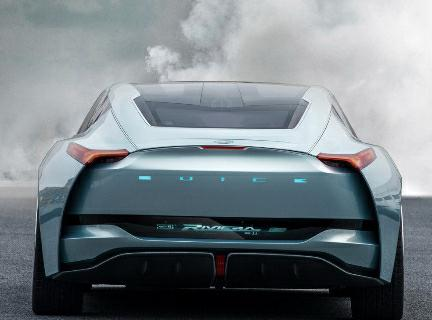别克-Riviera: (30, 76, 414, 320)
